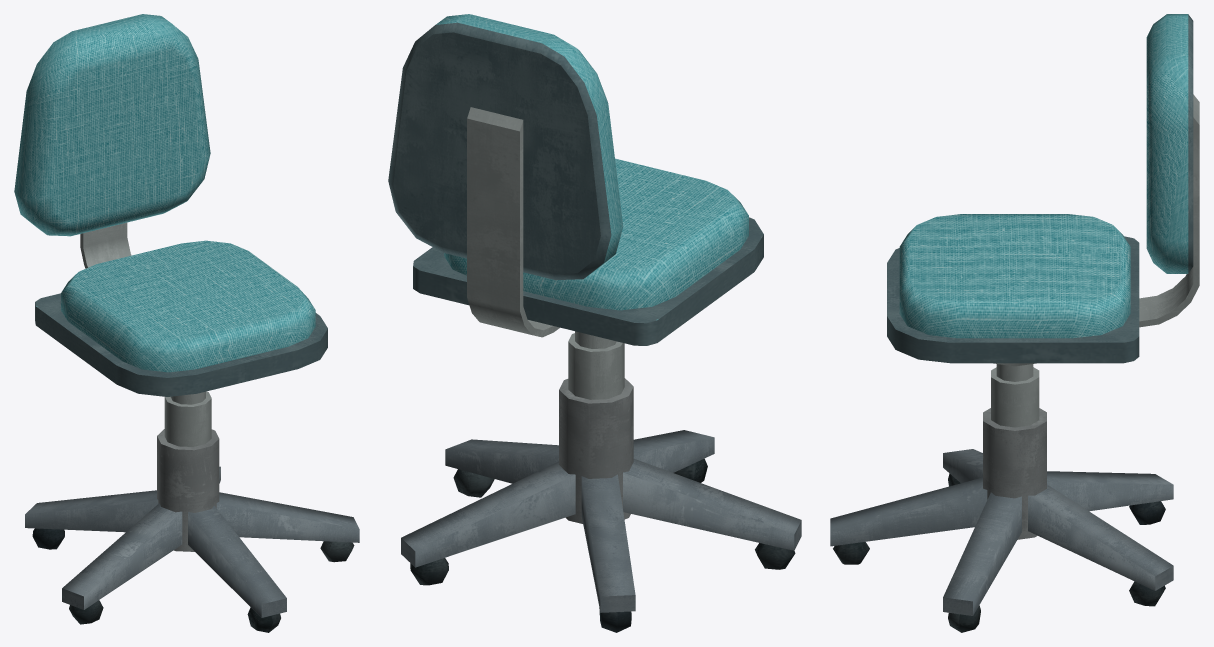
The model's file is chairMesh.fbx.
3 views of the same model, side by side, from view 1: azimuth 30°, elevation 25°; view 2: azimuth 150°, elevation 25°; view 3: azimuth 270°, elevation 25° (orthographic). The views are drawn at different scales.
Parts seen in each view (by area): view 1: chair; view 2: chair; view 3: chair.
Boxes of the visible parts, left/top/right/bottom form: chair: left=14, top=14, right=359, bottom=632; chair: left=388, top=14, right=801, bottom=632; chair: left=830, top=14, right=1199, bottom=632.
Bounding box in the file's own units: 79.43 × 128 × 81.22.
